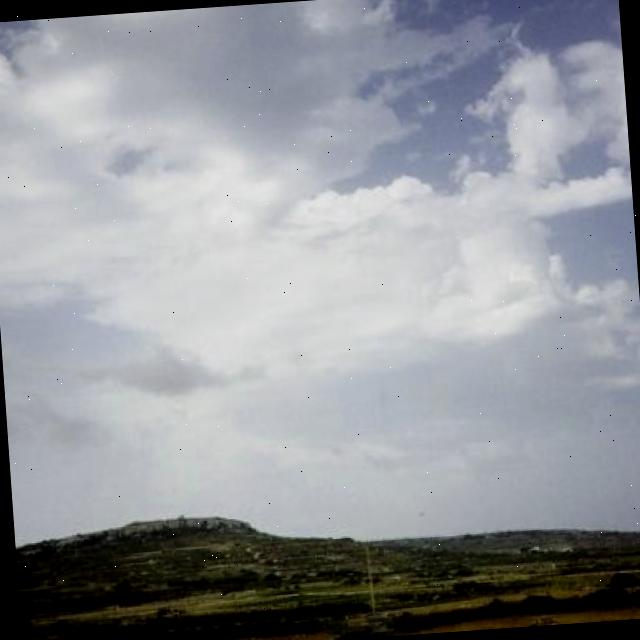St: (69, 143, 589, 433)
